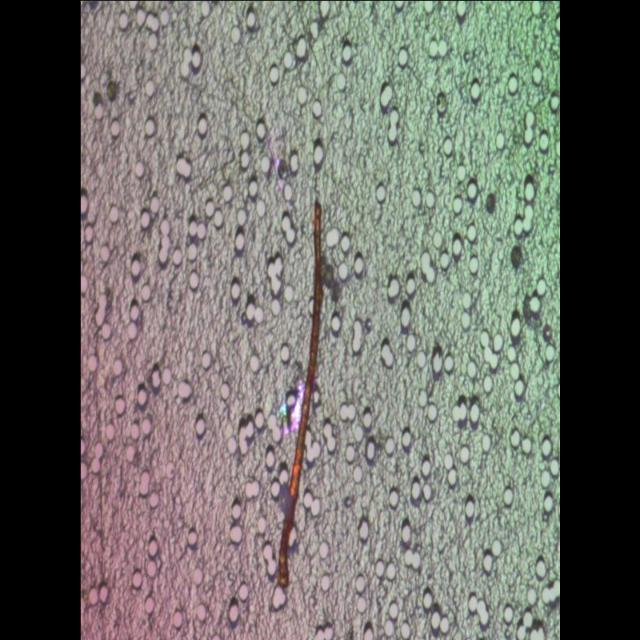Fibre: (274, 200, 324, 590)
